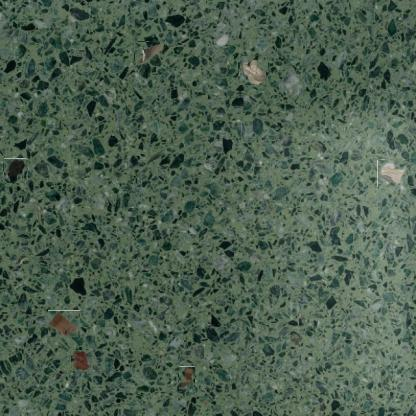dirty: (377, 159, 408, 187), (48, 310, 80, 337), (240, 56, 268, 84), (134, 41, 164, 65), (179, 366, 195, 389)
liquid: (4, 159, 27, 183), (71, 350, 91, 370)
